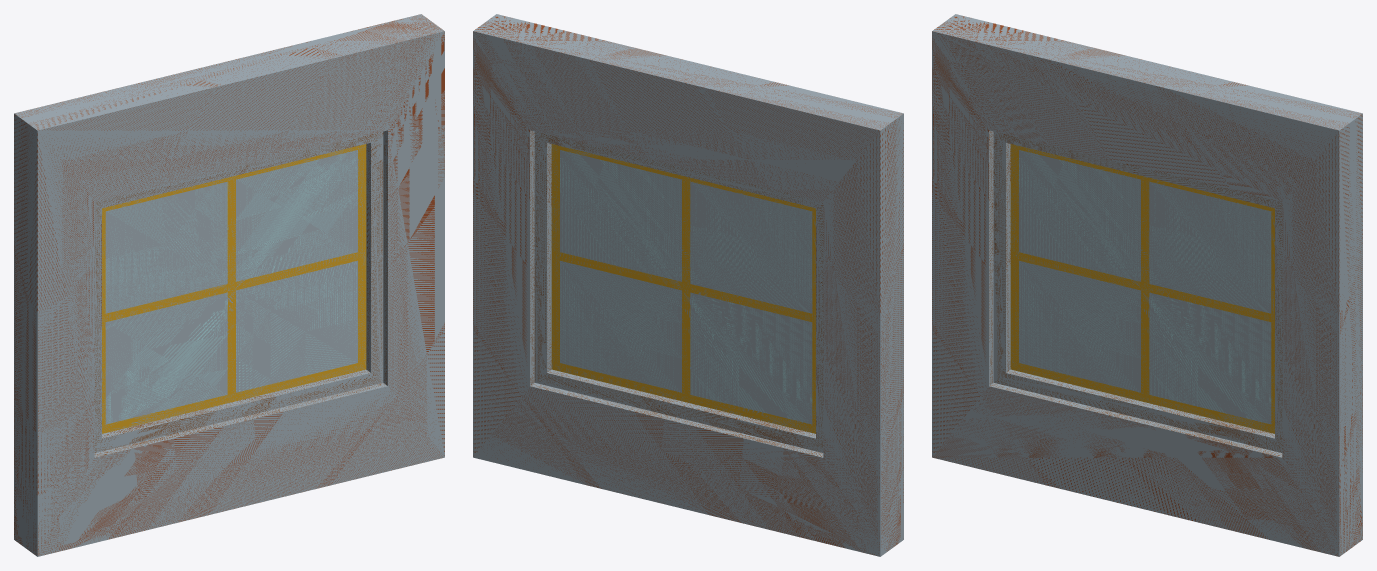
File: wall_window_5.fbx
3 views of the same model, side by side, from view 1: azimuth 30°, elevation 25°; view 2: azimuth 150°, elevation 25°; view 3: azimuth 330°, elevation 25° (orthographic).
Visible parts, largest first — view 1: Mesh1_window_6_1 Model; view 2: Mesh1_window_6_1 Model; view 3: Mesh1_window_6_1 Model.
Part boxes in pixels (<box>): Mesh1_window_6_1 Model: <box>14,14,444,556</box>; Mesh1_window_6_1 Model: <box>473,14,903,556</box>; Mesh1_window_6_1 Model: <box>932,14,1362,556</box>.
Size of the model in its own units: 1 by 1 by 0.1.
